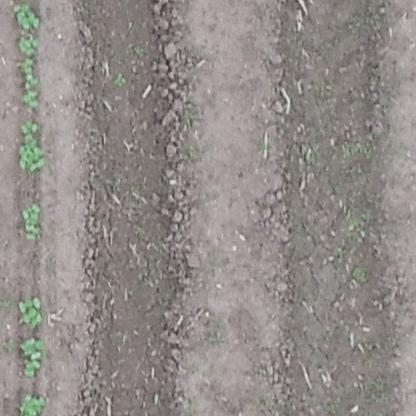vc: (19, 119, 46, 175), (15, 291, 48, 331), (18, 57, 39, 107), (20, 337, 45, 378), (15, 390, 50, 416), (21, 198, 41, 240), (12, 3, 42, 28), (17, 33, 38, 53)
